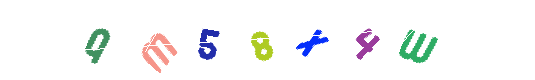4: (242, 0, 322, 80)
5: (222, 0, 302, 80)
8: (228, 0, 308, 80)
M: (214, 0, 294, 80)
Q: (119, 0, 199, 80)
W: (320, 0, 400, 80)
X: (236, 0, 316, 80)
